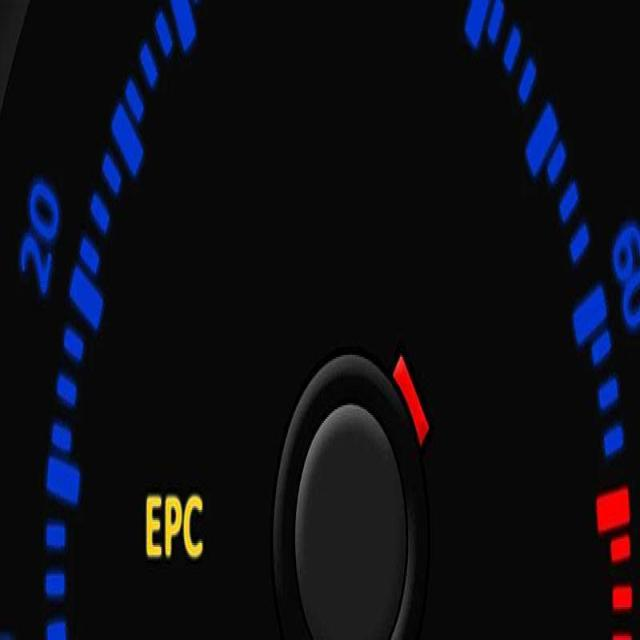kontrolka: (134, 464, 216, 583)
